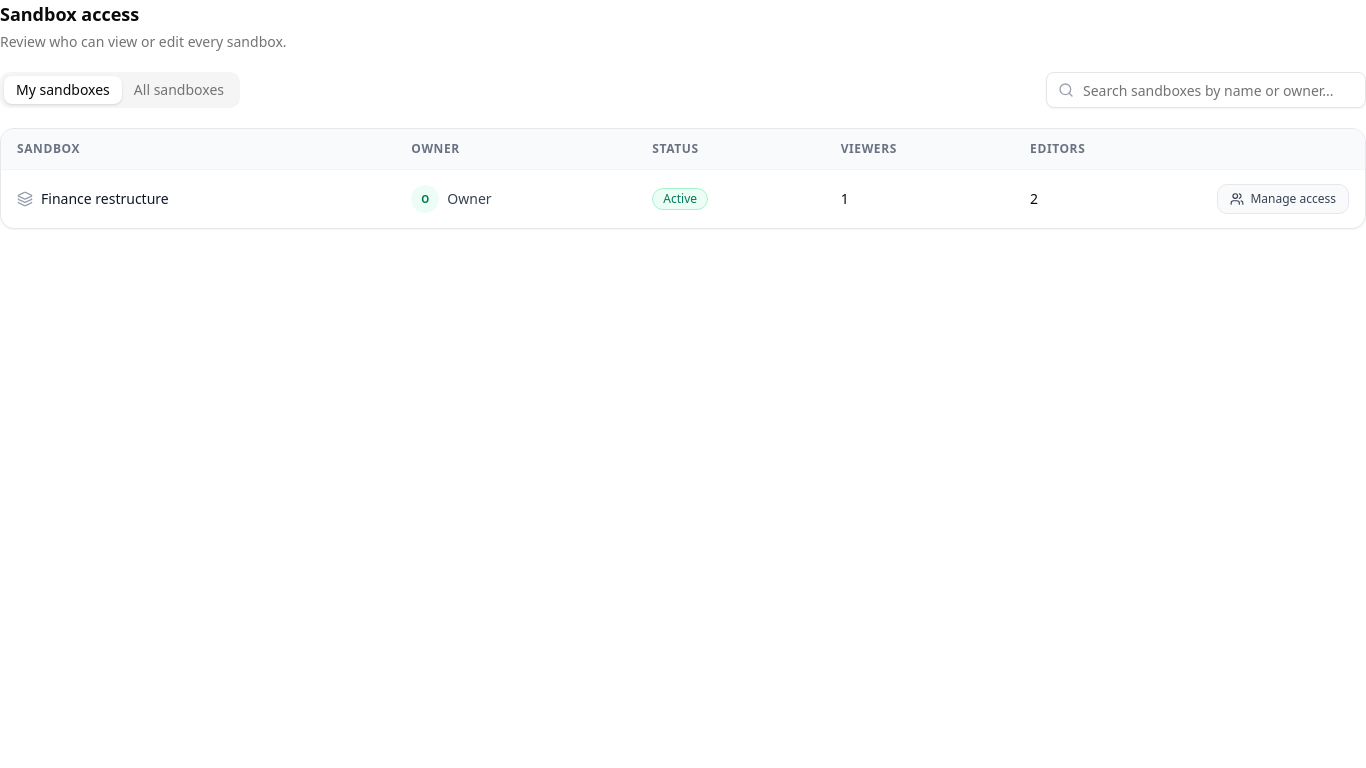
it: sandbox sharing › defaults sandbox oversight to owned rows and filters all rows by search
The width and height of the screenshot is (1366, 768).
Expected: the text "Finance restructure" is shown, [41,189,169,209]
Expected: the text "People operations" is not shown
Click the tab "All sandboxes" at x=179, y=90, box [122,76,236,104]
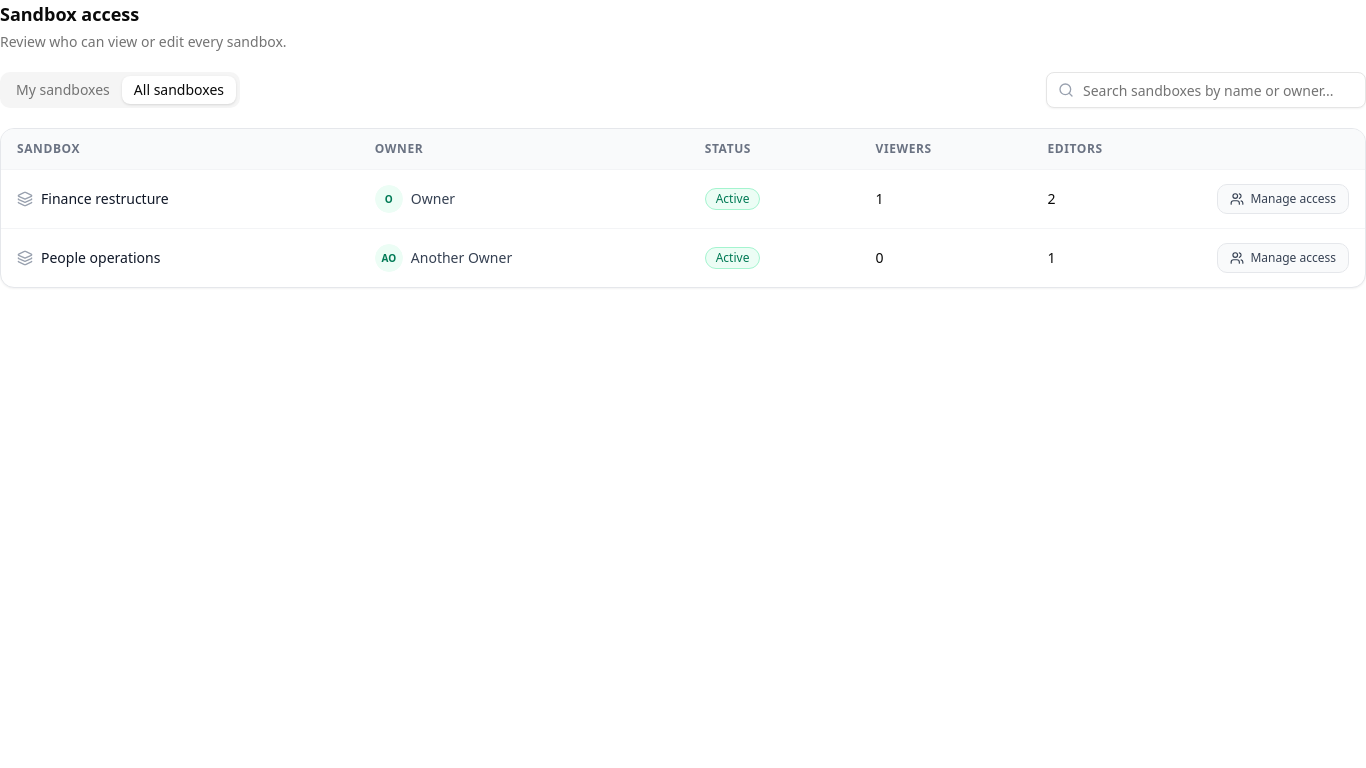
Now the text "People operations" is shown, box [41,248,160,268]
Type "another owner" into the field labelled "Search sandboxes by name or owner" at x=1206, y=90, box [1046,72,1365,108]
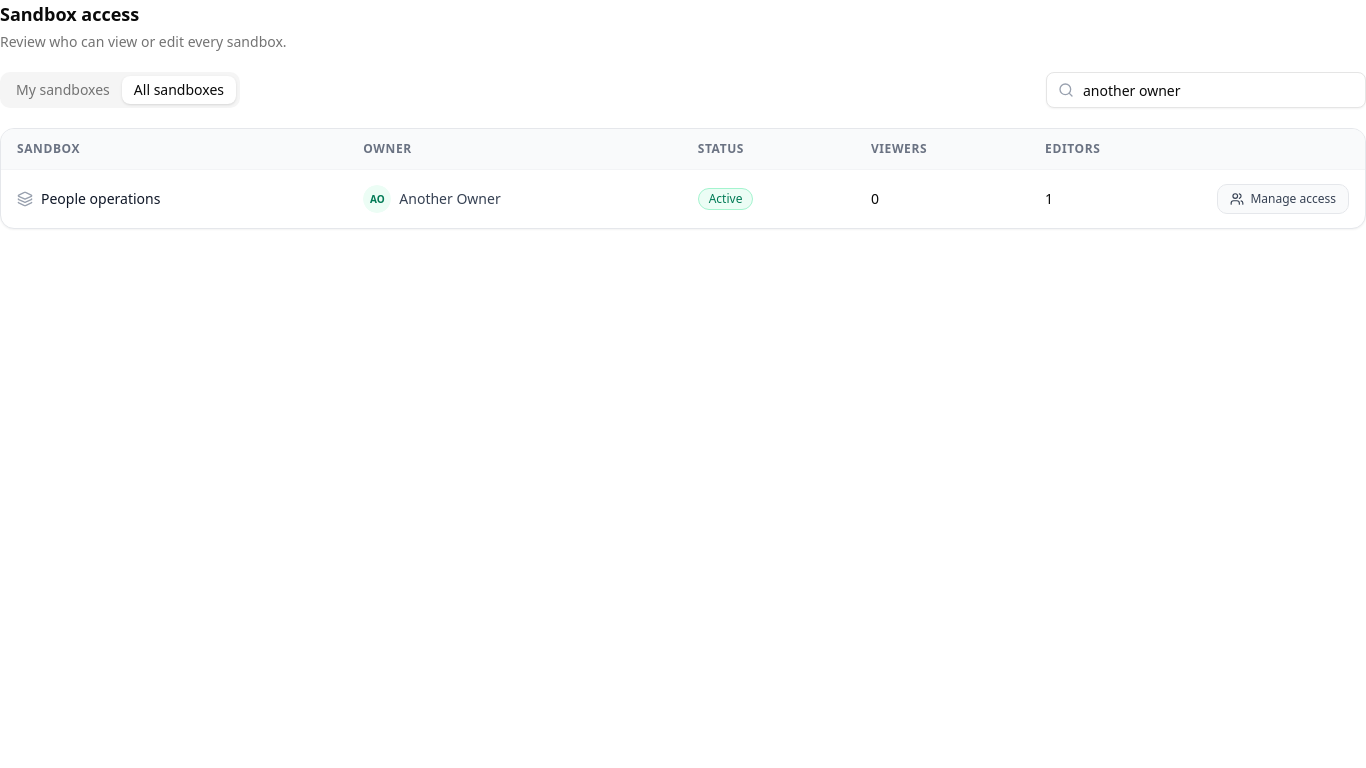
Now the text "People operations" is shown, box [41,189,160,209]
Now the text "Finance restructure" is gone
Click the button with aria-label "Manage access for People operations" at x=1283, y=199, box [1217,184,1349,214]
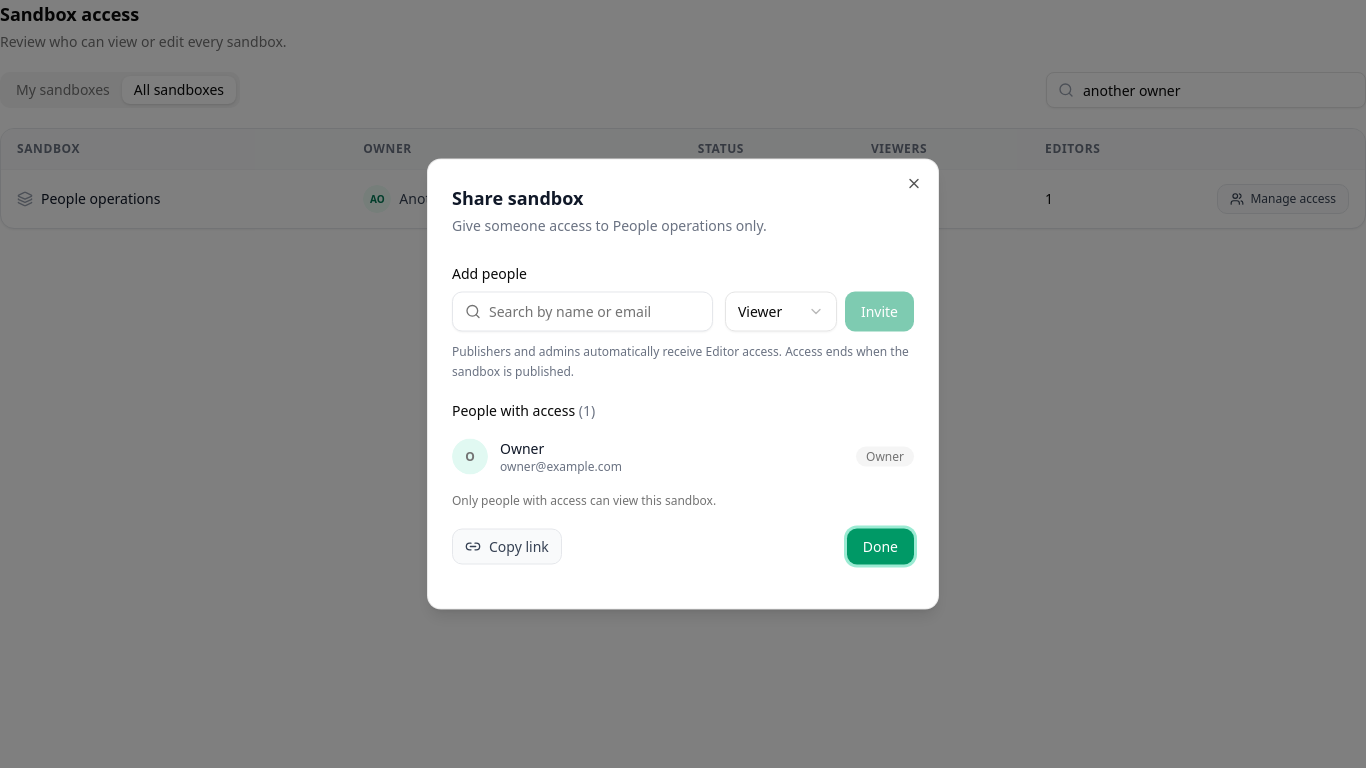
Now the dialog "Share sandbox" is shown, box [427,158,939,610]
